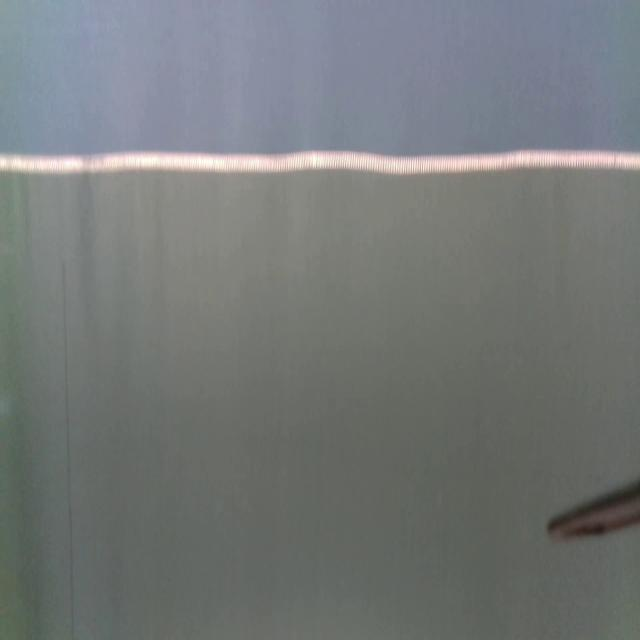crease: (60, 260, 75, 640)
